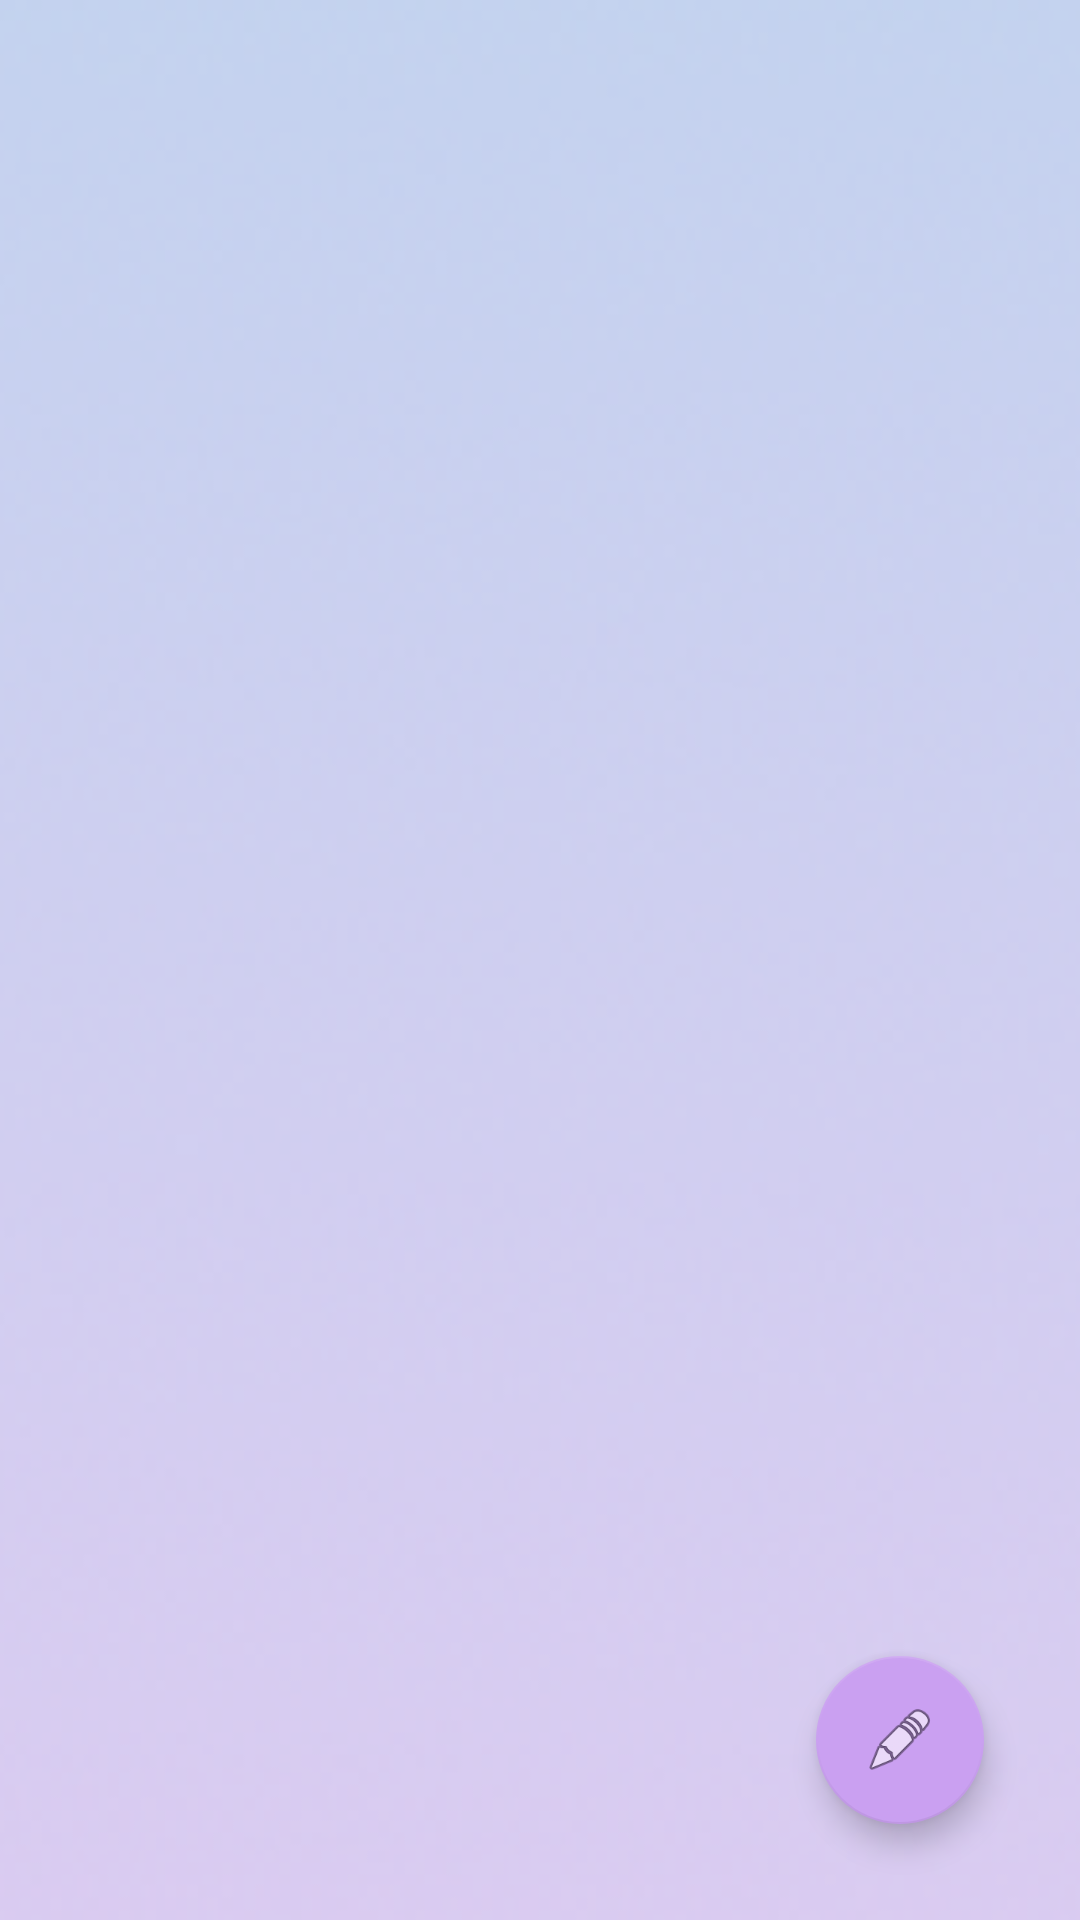

Icons on this 1080 x 1920 Android screen, each with its box as (x1, y1, x2, y2):
edit: (816, 1656, 984, 1824)
